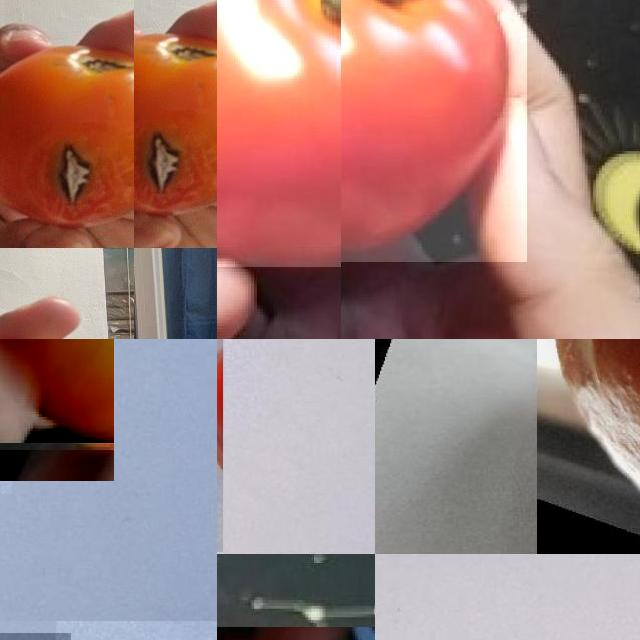Fresh Tomato: (341, 0, 526, 261), (217, 0, 341, 266)
Rotten Tomato: (537, 339, 640, 554)
object: (0, 339, 114, 481)
